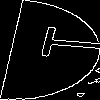T: (24, 25, 100, 62)
